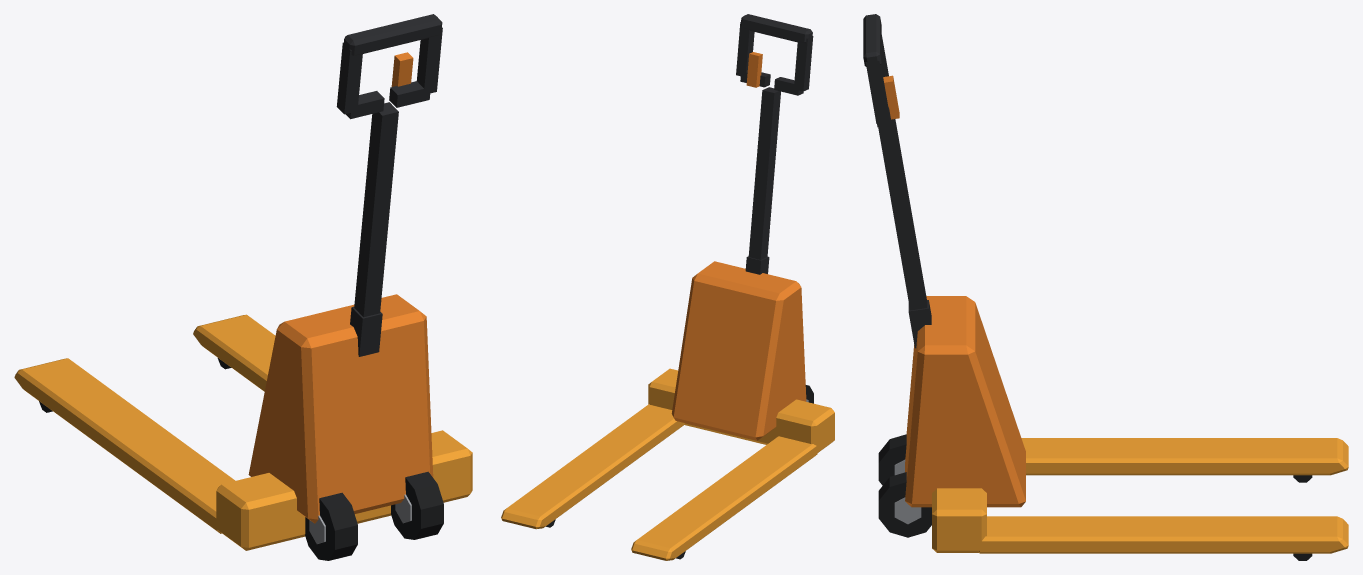
Rendered from pallet_jack.glb.
The picture shows the model from 3 angles, left to right: view 1: azimuth 30°, elevation 25°; view 2: azimuth 150°, elevation 25°; view 3: azimuth 270°, elevation 25°; orthographic projection. The views are drawn at different scales.
Parts seen in each view (by area): view 1: Body; view 2: Body; view 3: Body.
Boxes of the visible parts, x1,y1,x2,y2 form: Body: (14, 14, 472, 560); Body: (501, 14, 834, 560); Body: (863, 14, 1348, 560).
Bounding box in the file's own units: 0.7 × 1.54 × 1.41.
